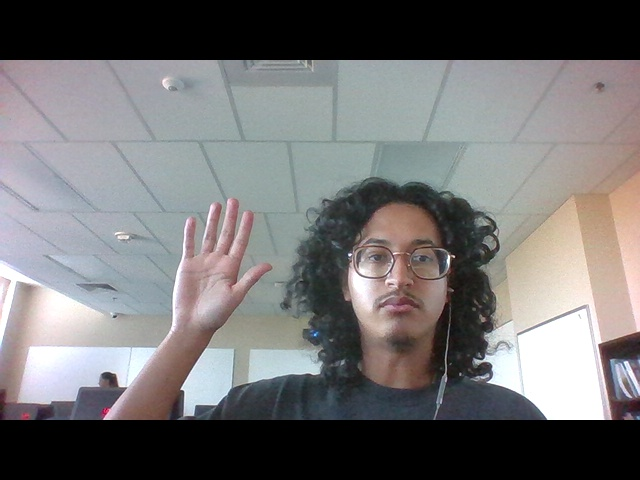hello: (170, 193, 279, 337)
